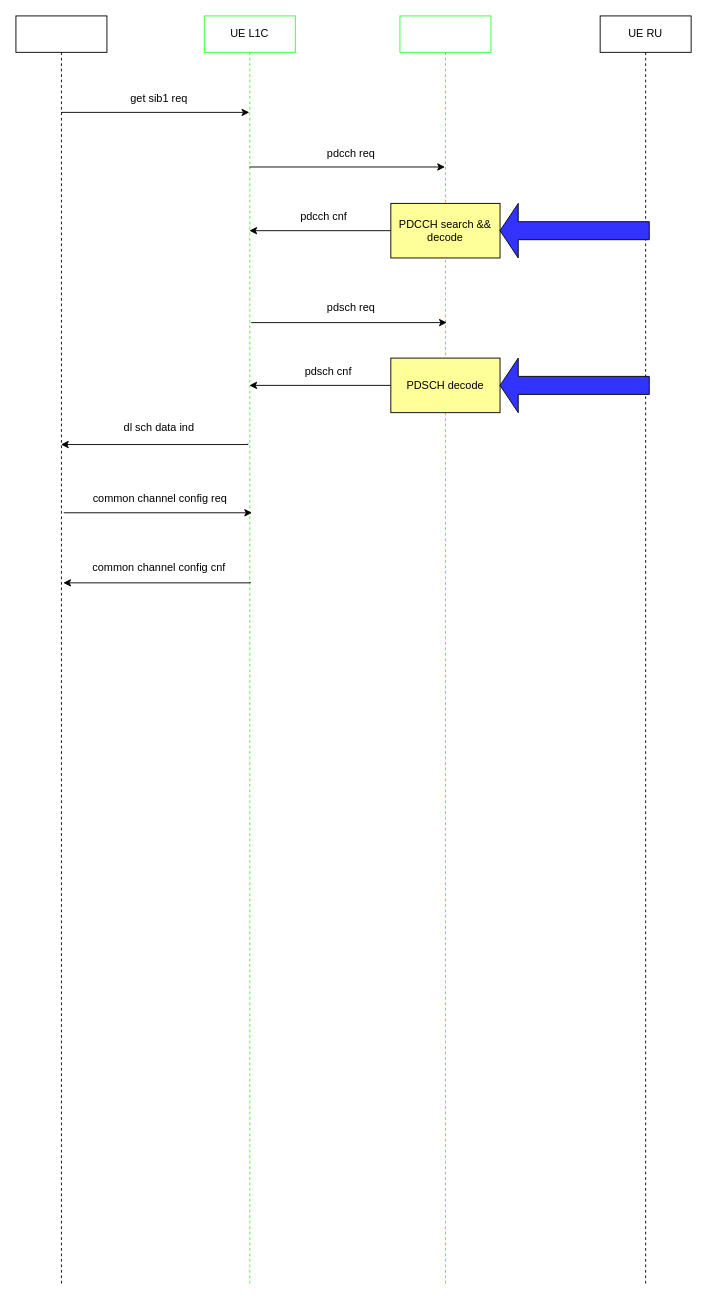
Image size: 707x1302. Some labels were removed from this diagram. The shapes that lost their labels are listed below. From the top down, each one's box as (x1, y1, x2, y2) in pixels, then its label:
(15, 15, 107, 1286): UE L3/L2
(399, 15, 491, 1286): UE L1D
